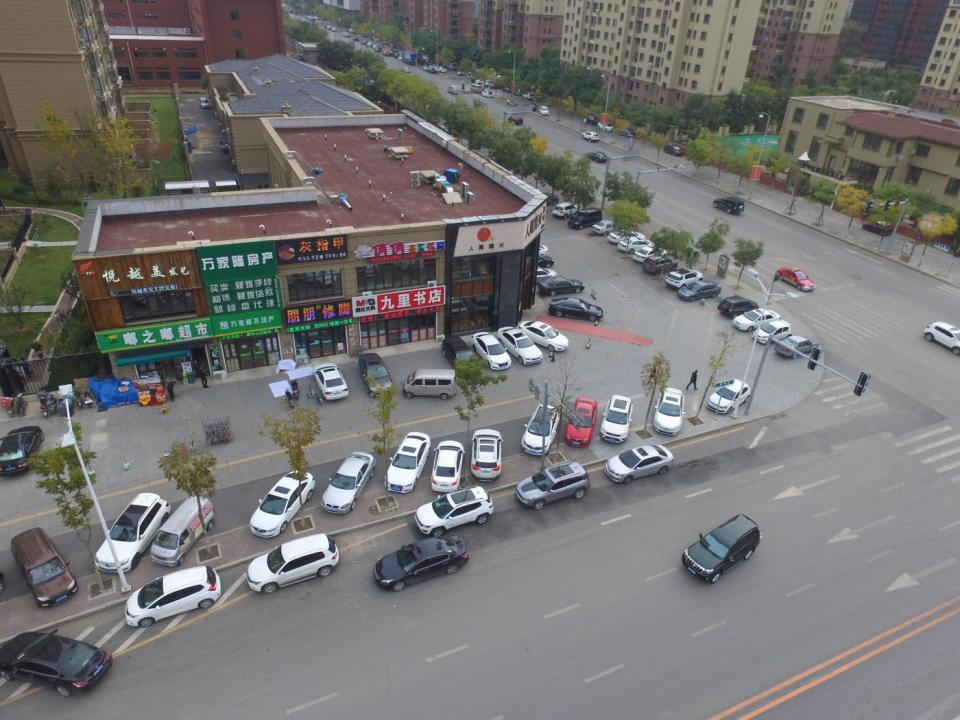bus: (306, 16, 315, 25)
car: (0, 629, 112, 699), (94, 492, 171, 572), (126, 566, 222, 626), (246, 533, 341, 593), (683, 513, 760, 584), (10, 526, 78, 606), (374, 534, 468, 591), (246, 468, 316, 537), (416, 487, 493, 540), (516, 461, 590, 510), (319, 452, 376, 514), (385, 433, 431, 492), (606, 446, 675, 483), (0, 425, 44, 474), (429, 440, 464, 495), (496, 328, 542, 367), (522, 404, 559, 452), (440, 337, 480, 380), (564, 398, 598, 448), (599, 395, 634, 443), (470, 430, 502, 481), (519, 320, 569, 352), (358, 352, 394, 396), (472, 332, 511, 372), (654, 387, 686, 434), (709, 380, 752, 414), (312, 364, 348, 401), (923, 320, 960, 356), (548, 298, 603, 322), (776, 334, 822, 359), (774, 267, 816, 292), (753, 320, 793, 346), (735, 311, 780, 334), (719, 295, 759, 319), (678, 279, 720, 301), (538, 276, 584, 296), (664, 268, 704, 291), (516, 266, 558, 284), (641, 256, 678, 275), (508, 244, 548, 261), (517, 252, 553, 270), (713, 195, 745, 214), (618, 238, 656, 254), (633, 246, 666, 262), (591, 220, 621, 236), (862, 219, 892, 235), (608, 232, 646, 244), (552, 203, 581, 218), (536, 192, 559, 207), (586, 150, 609, 163), (663, 143, 684, 157), (581, 130, 600, 143), (617, 125, 636, 138), (599, 120, 615, 132), (584, 115, 601, 126), (508, 115, 524, 125), (523, 103, 538, 111), (433, 66, 448, 73), (470, 76, 485, 83), (475, 77, 488, 85), (489, 82, 503, 89), (522, 93, 535, 100), (503, 85, 514, 93), (481, 91, 493, 98), (540, 106, 549, 115), (513, 88, 524, 95), (484, 80, 495, 87), (447, 63, 458, 70), (422, 64, 430, 70), (398, 55, 406, 61), (403, 66, 410, 72), (382, 50, 389, 56), (362, 40, 370, 45), (393, 52, 399, 58), (352, 36, 358, 42), (345, 32, 351, 38), (326, 24, 332, 30), (429, 69, 436, 74), (375, 47, 382, 52), (373, 44, 380, 49), (332, 26, 337, 32), (368, 42, 374, 46)
truck: (401, 51, 419, 65)
van: (149, 495, 216, 565), (403, 369, 458, 399), (567, 206, 600, 230), (448, 85, 461, 95), (470, 84, 482, 92)
